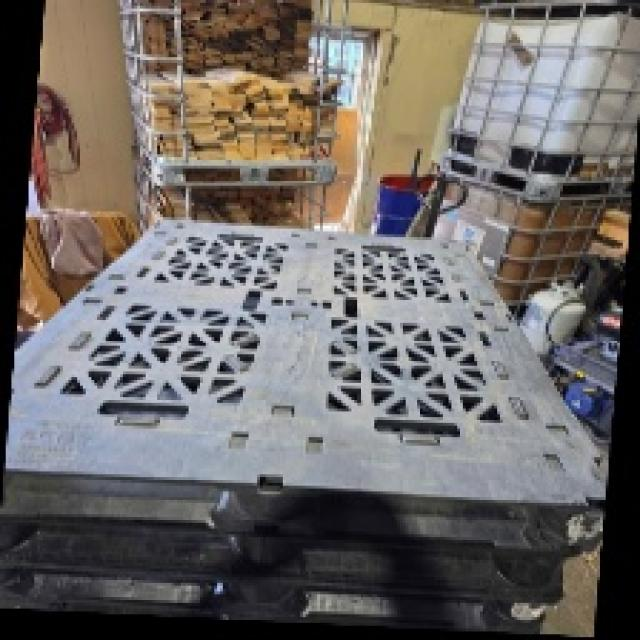igps: (0, 213, 611, 568), (0, 499, 593, 613), (0, 547, 570, 640)
